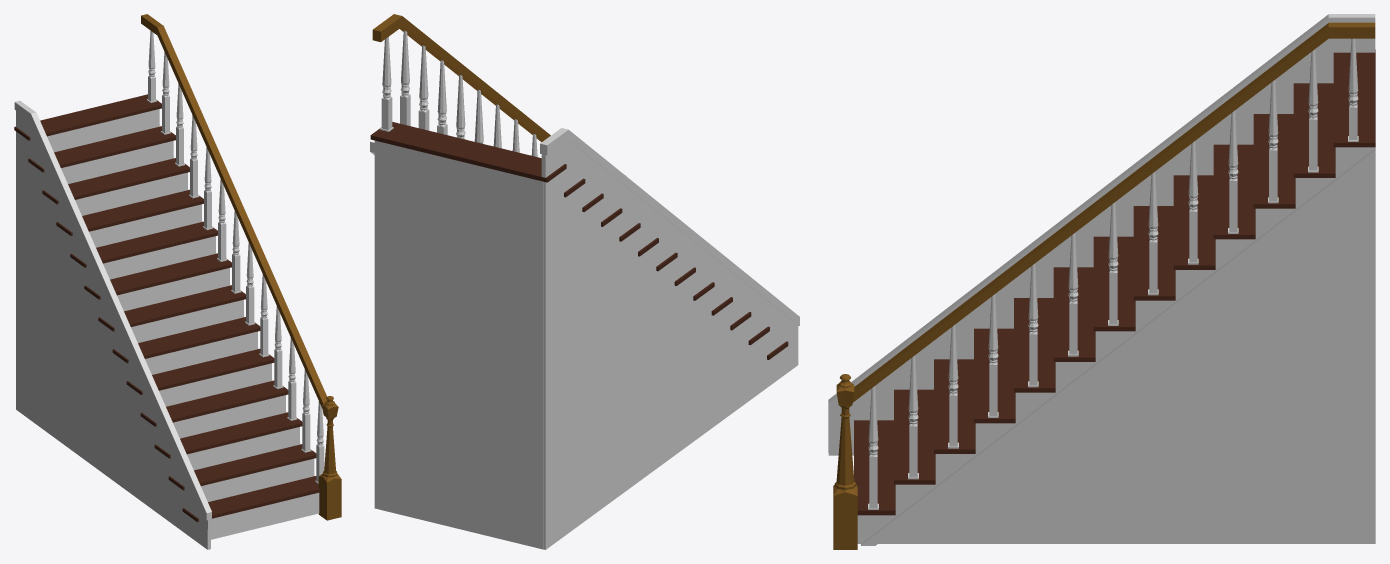
File: 7fde4c0e-8a4e-4709-b50f-67df1a270523.glb
3 renders of one model, left to right at view 1: azimuth 30°, elevation 25°; view 2: azimuth 150°, elevation 25°; view 3: azimuth 270°, elevation 25°, orthographic. The views are drawn at different scales.
Parts seen in each view (by area): view 1: Node; view 2: Node; view 3: Node.
Part boxes in pixels (box(x1,y1,x2,y2)): Node: box(14, 14, 341, 549); Node: box(370, 14, 799, 549); Node: box(828, 14, 1375, 549).
Size of the model in its own units: 5.64 by 14.34 by 13.69.
